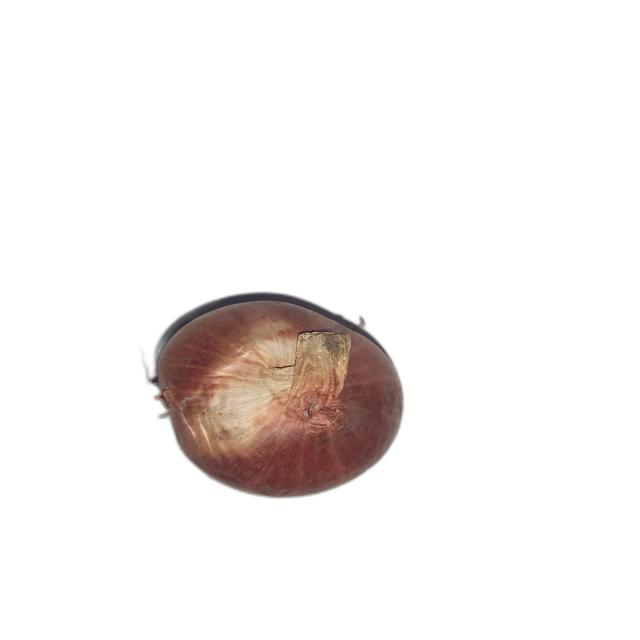onion: (156, 300, 406, 499)
